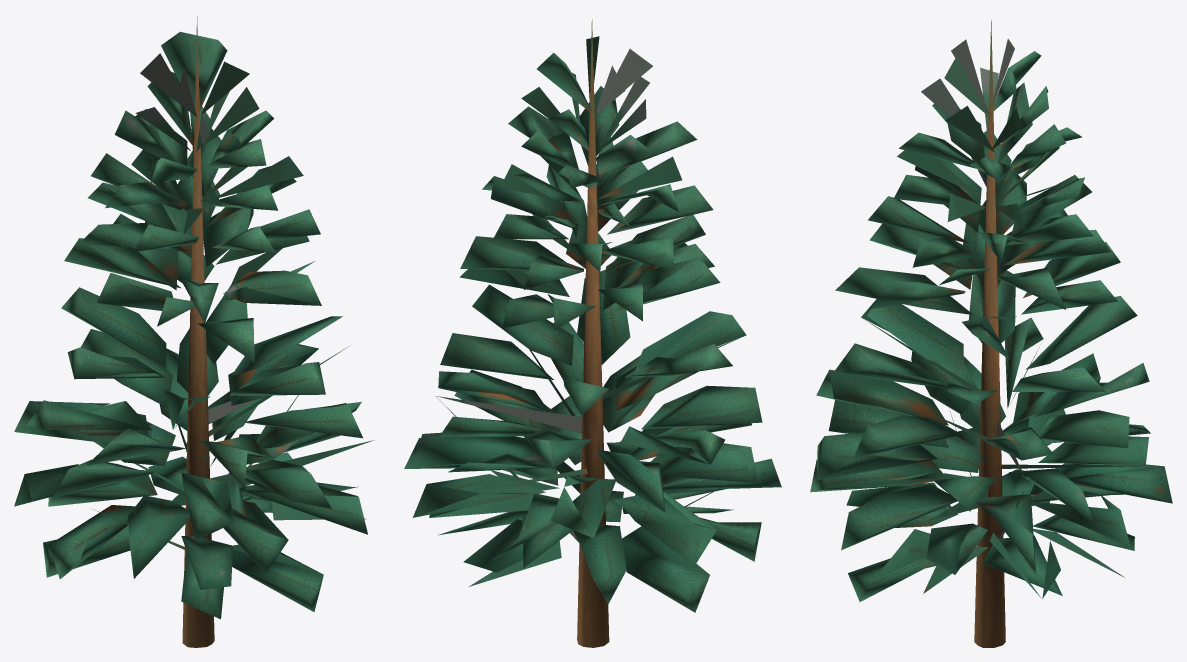
The model's file is meshy_tree_pine.glb.
3 renders of one model, left to right at view 1: azimuth 30°, elevation 25°; view 2: azimuth 150°, elevation 25°; view 3: azimuth 270°, elevation 25°, orthographic.
Bounding box in the file's own units: 0.5107 × 0.9536 × 0.4995.
Materials: 1 (1 with a texture image).
